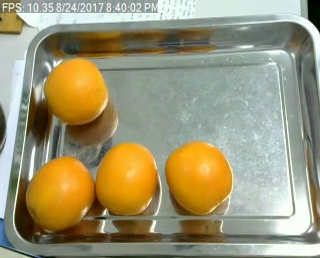Orange: (24, 156, 95, 230), (165, 139, 231, 215), (95, 140, 159, 213), (42, 56, 108, 124)
